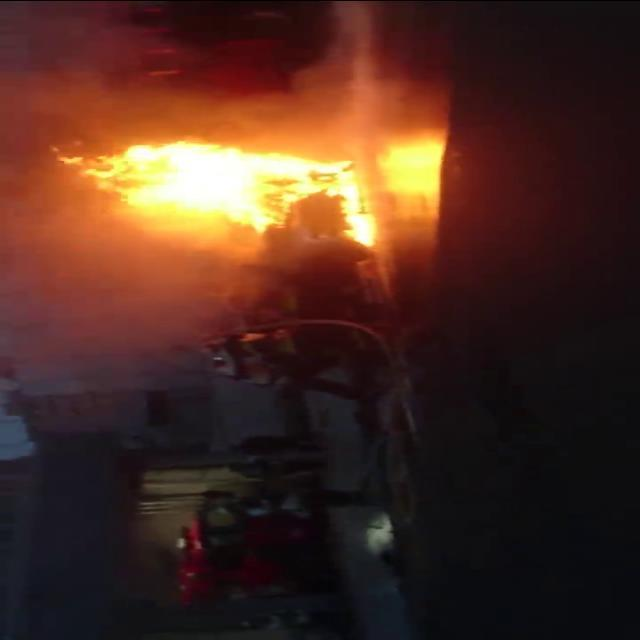Fire: (51, 138, 378, 254)
